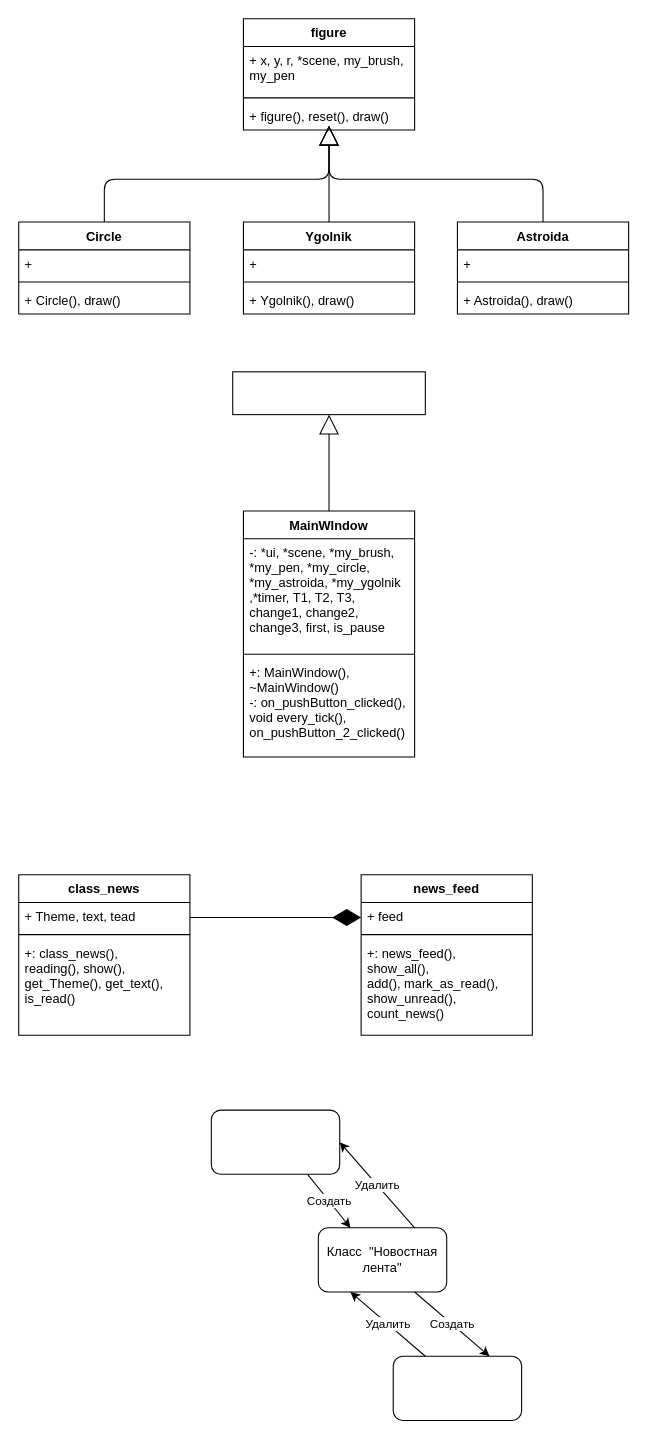
This 647x1439 diagram has some shape labels left out. Each missing label, with the box of its shape:
QMainWIndow: (232, 371, 425, 415)
Класс "Новость": (392, 1355, 522, 1420)
Открыть программу: (210, 1109, 340, 1174)
